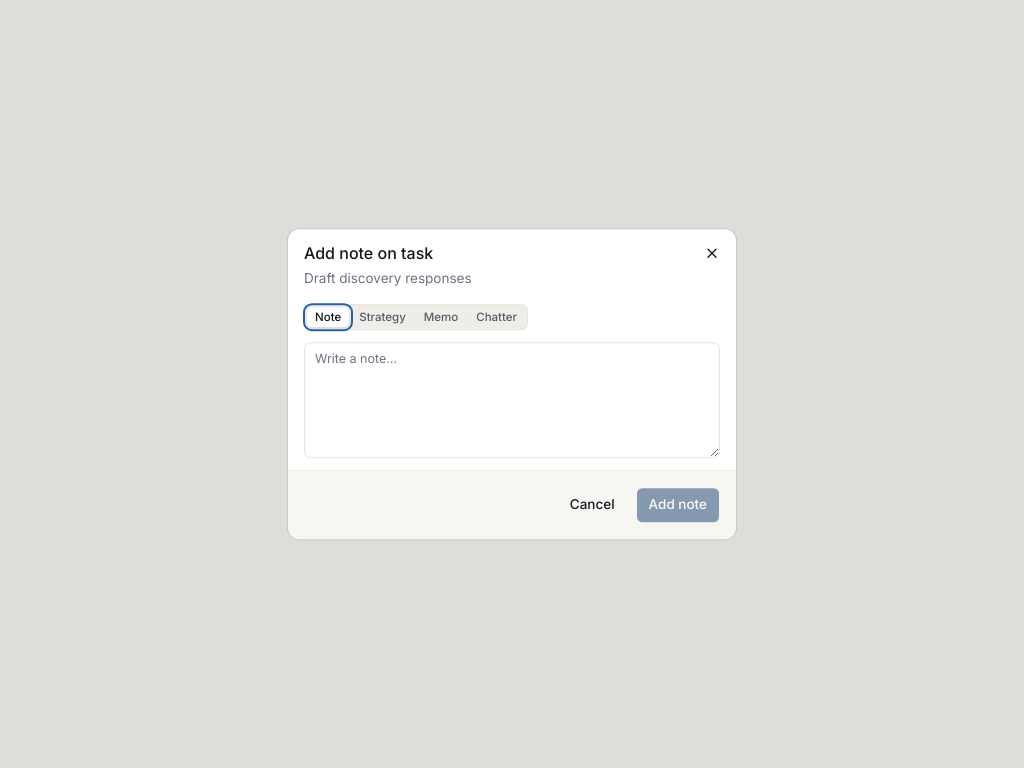
it: AddNoteOnEntityDialog — close on success › stays open and surfaces field errors when the action fails
This screenshot has width=1024, height=768.
Type "   x" into the text box with placeholder "Write a note…" at (512, 400), box [304,342,720,458]
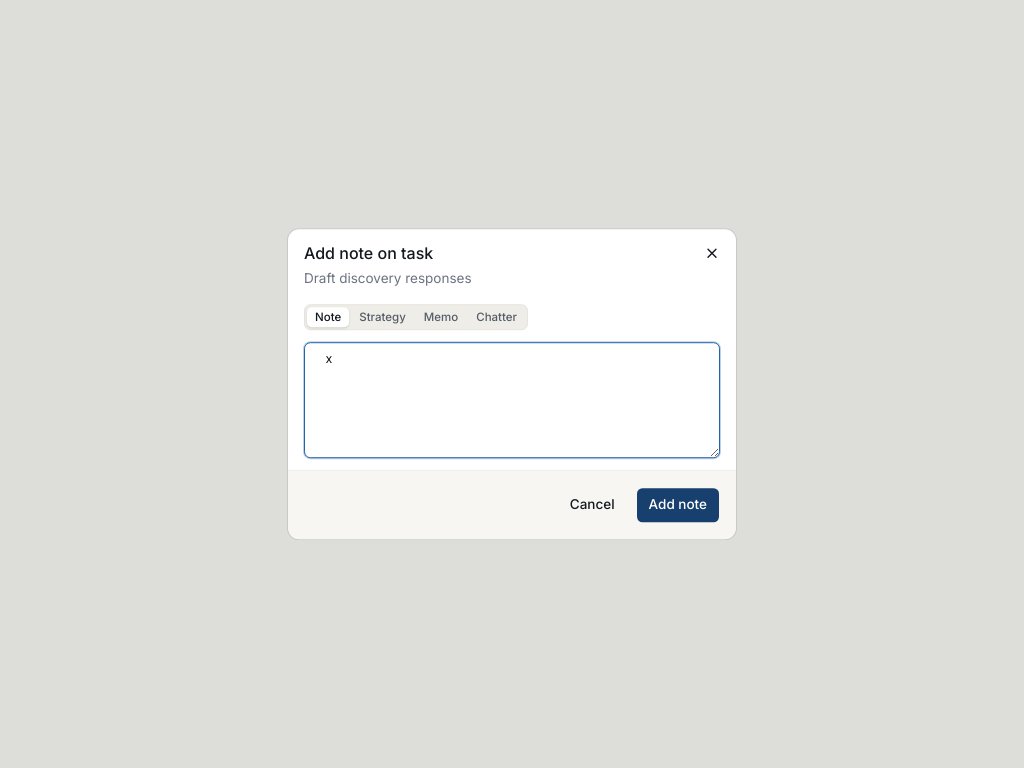
Click the button "Add note" at (678, 505), box [636,487,720,523]
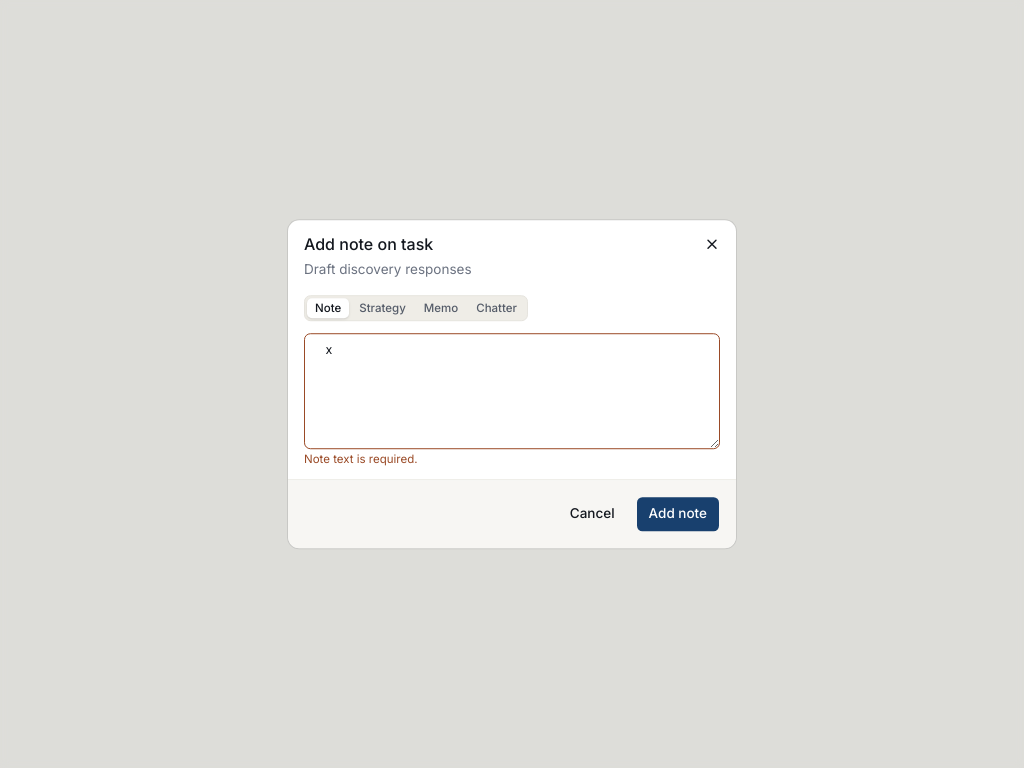
expect the text "Note text is required." is shown: met, box [304,452,418,466]
